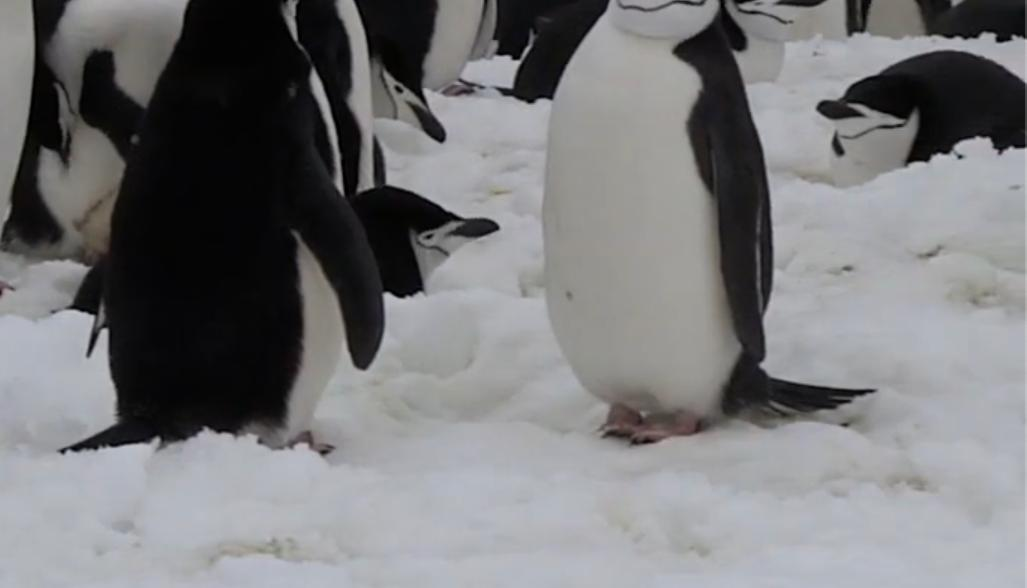Chinstrap Penguin: (93, 0, 400, 477), (537, 0, 787, 449), (0, 0, 104, 313), (808, 32, 1027, 179), (313, 192, 506, 312), (338, 0, 520, 69), (708, 0, 858, 49)
